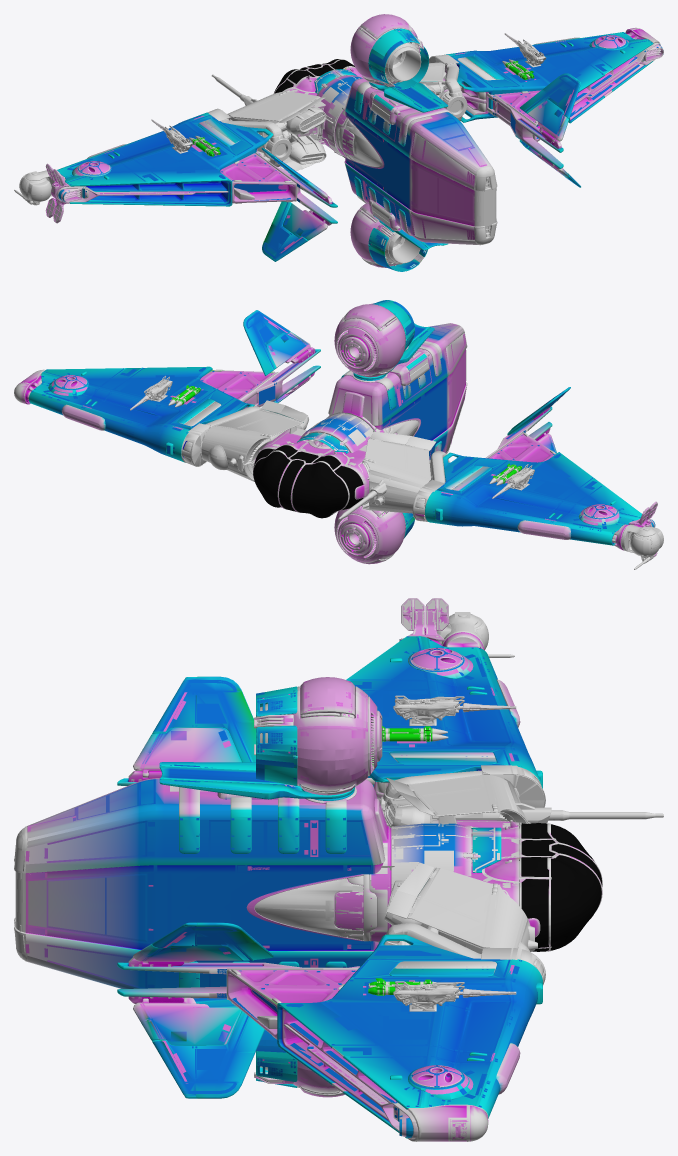
The picture shows the model from 3 angles, top to bottom: view 1: azimuth 30°, elevation 25°; view 2: azimuth 150°, elevation 25°; view 3: azimuth 270°, elevation 25°; orthographic projection. The views are drawn at different scales.
Visible parts, largest first — view 1: reliant sen body, reliant sen glass; view 2: reliant sen body, reliant sen glass; view 3: reliant sen body, reliant sen glass.
Part boxes in pixels (x1,y1,x2,y2): reliant sen body: (14, 14, 663, 271); reliant sen glass: (274, 59, 354, 93); reliant sen body: (14, 300, 663, 569); reliant sen glass: (253, 445, 363, 518); reliant sen body: (14, 598, 663, 1141); reliant sen glass: (519, 823, 602, 951).
Bounding box in the file's own units: 87.33 × 32.95 × 47.4.
